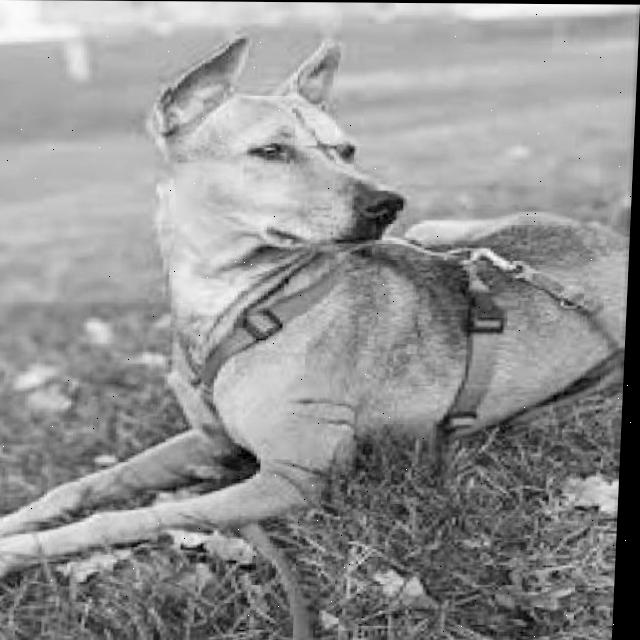Dog: (0, 37, 635, 588)
